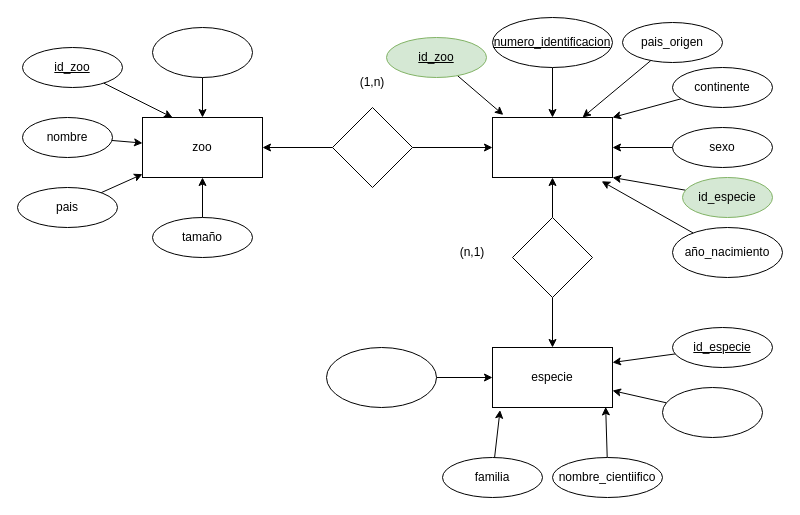
Some shapes in this 800 by 515 pixel diagram are drawn without their labels. Here are the shapes that lost their labels. From the top down, the centre of each, then its label:
the point at 202,52: ciudad
the point at 372,147: posee
the point at 552,147: animal
the point at 552,257: pertenece
the point at 381,377: peligo_extincion
the point at 712,412: nombre_vulgar
